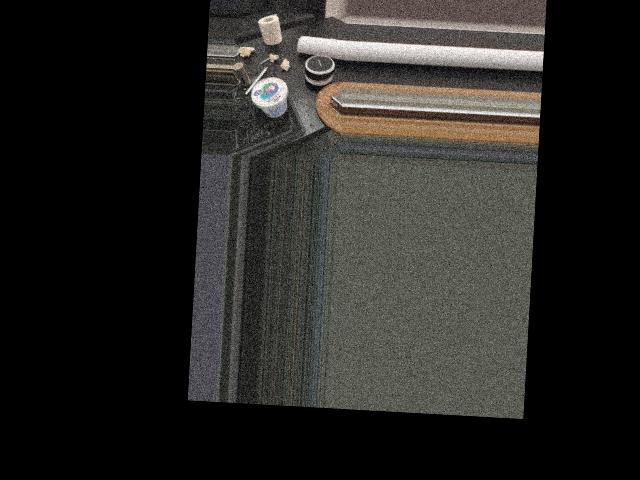cotage: (249, 78, 286, 120)
